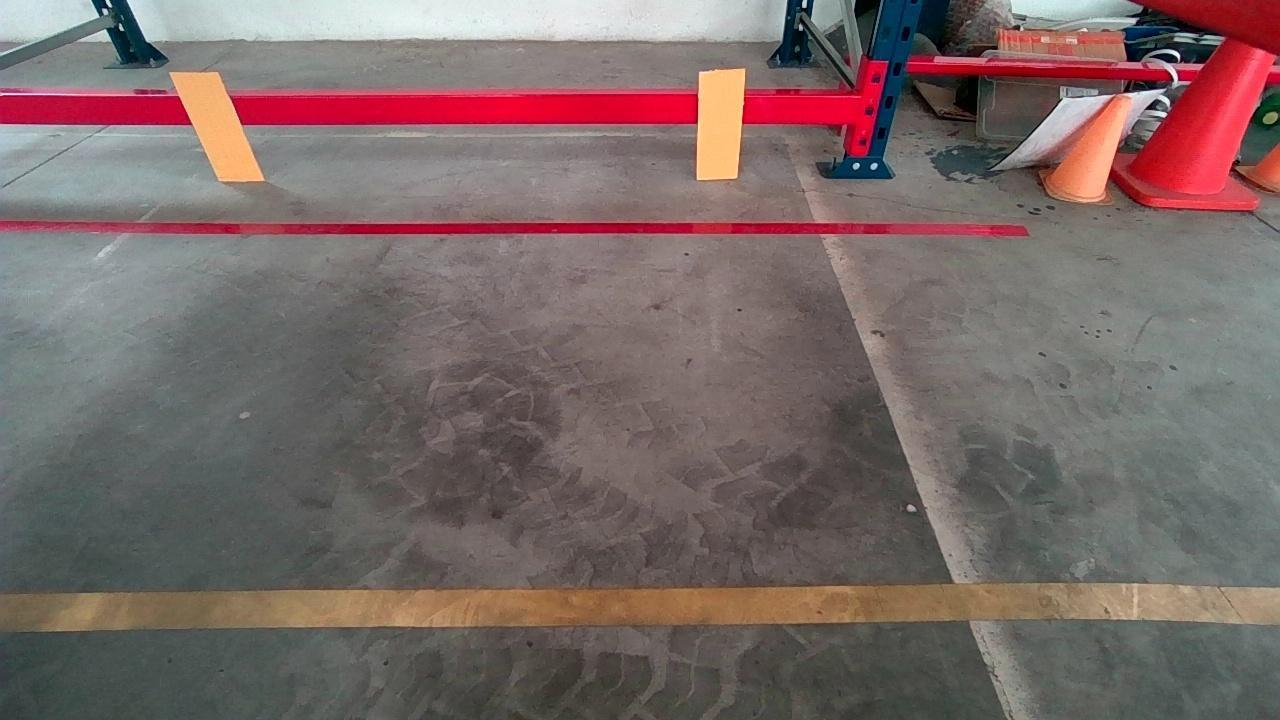h_rack: (0, 93, 863, 125)
orange_strip: (170, 72, 261, 178), (696, 70, 743, 179)
red_line: (0, 219, 1027, 235)
